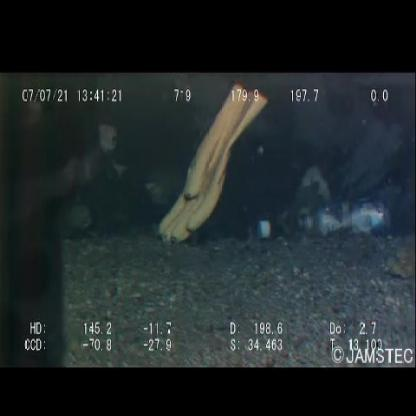Rác: (254, 199, 320, 252)
